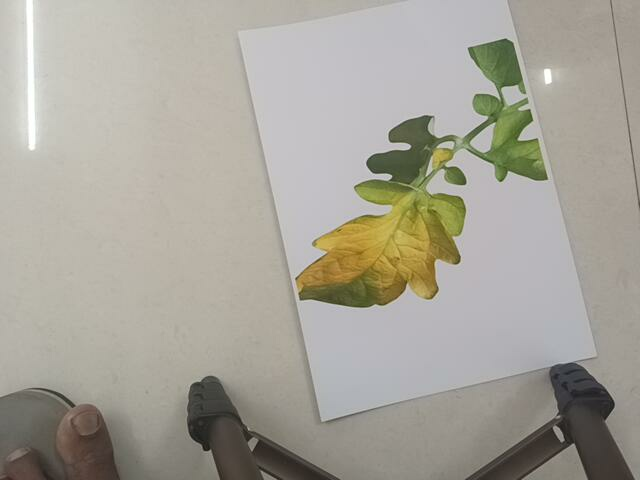Tomamto_Yellow_Disease: (297, 36, 539, 306)
